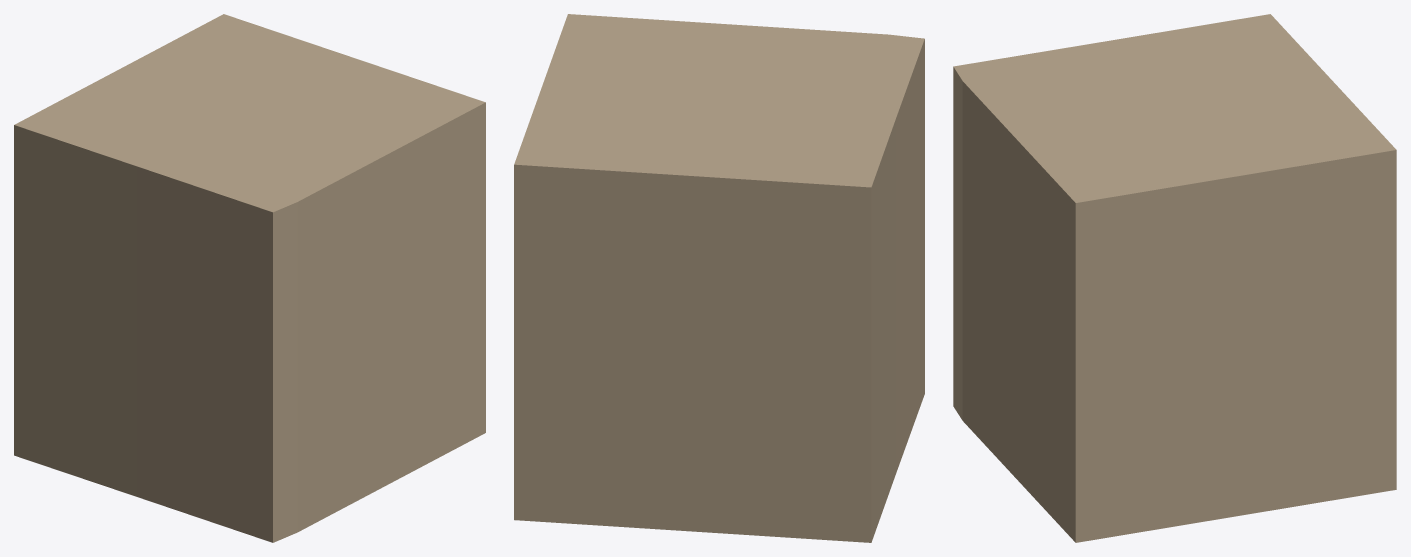
Rendered from bld_101805947.dae.
The picture shows the model from 3 angles, left to right: view 1: azimuth 30°, elevation 25°; view 2: azimuth 150°, elevation 25°; view 3: azimuth 270°, elevation 25°; orthographic projection. The views are drawn at different scales.
Parts seen in each view (by area): view 1: bld_101805947; view 2: bld_101805947; view 3: bld_101805947.
Part boxes in pixels (x1,y1,x2,y2): bld_101805947: (14, 14, 485, 542); bld_101805947: (514, 14, 924, 542); bld_101805947: (953, 14, 1396, 542).
Bounding box in the file's own units: 9.55 × 9.46 × 8.
